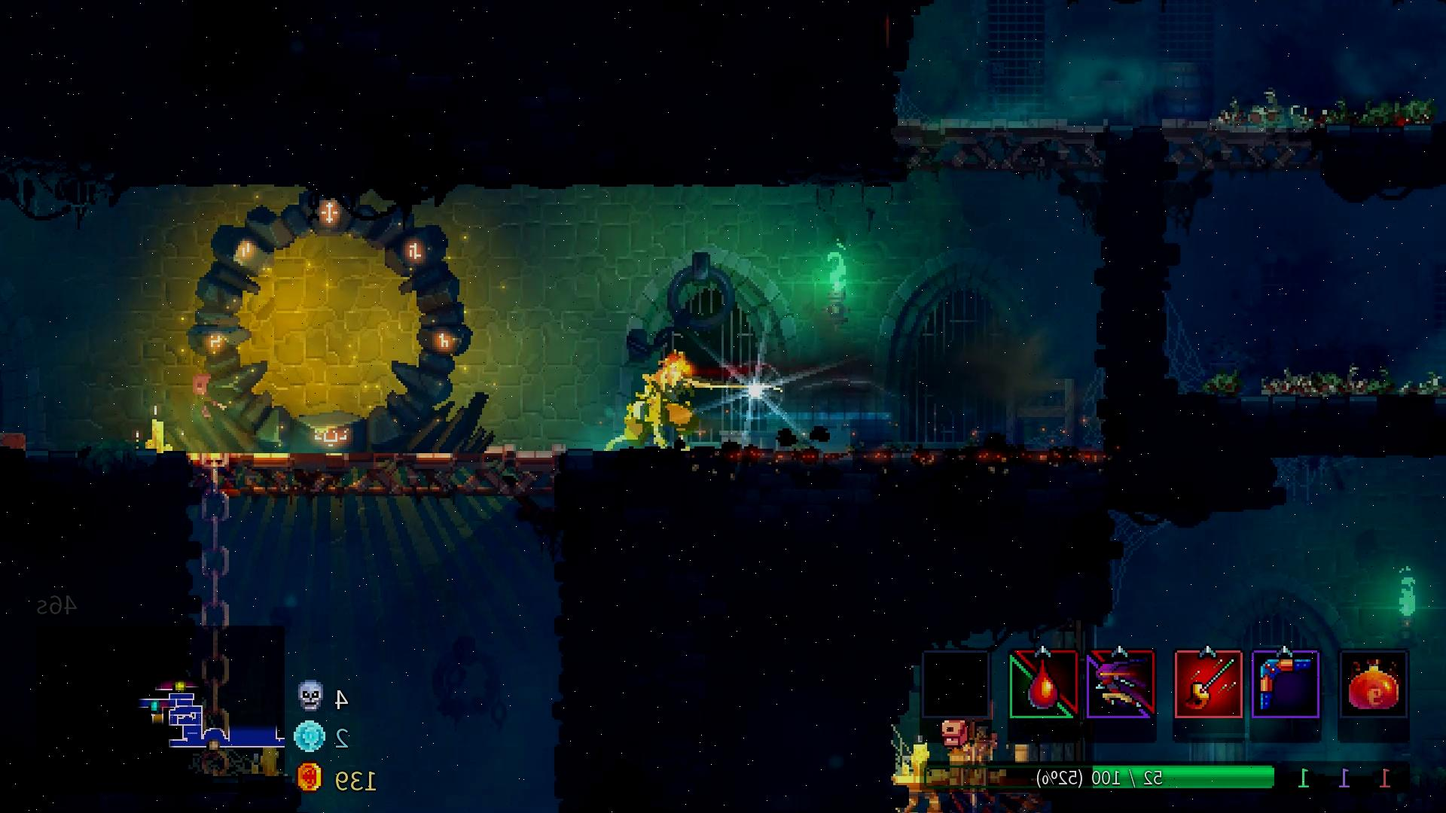door: (179, 202, 473, 455)
gamer: (611, 341, 731, 448)
